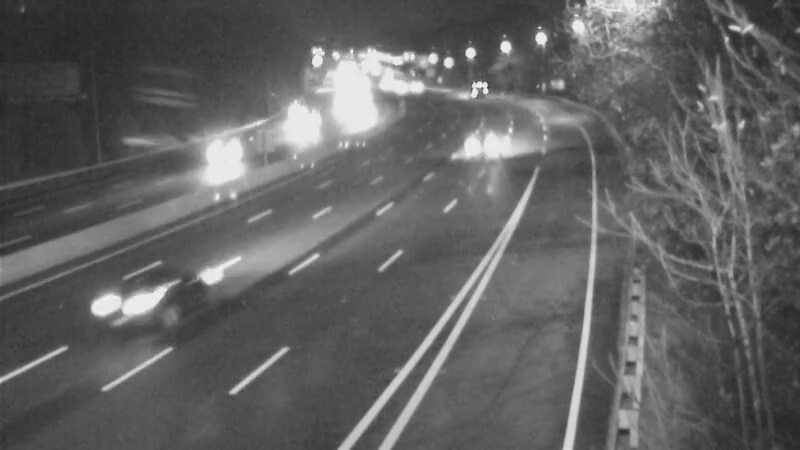vehicle: (70, 246, 180, 356), (419, 122, 499, 202), (186, 120, 266, 200), (453, 58, 503, 108), (267, 112, 317, 162)
